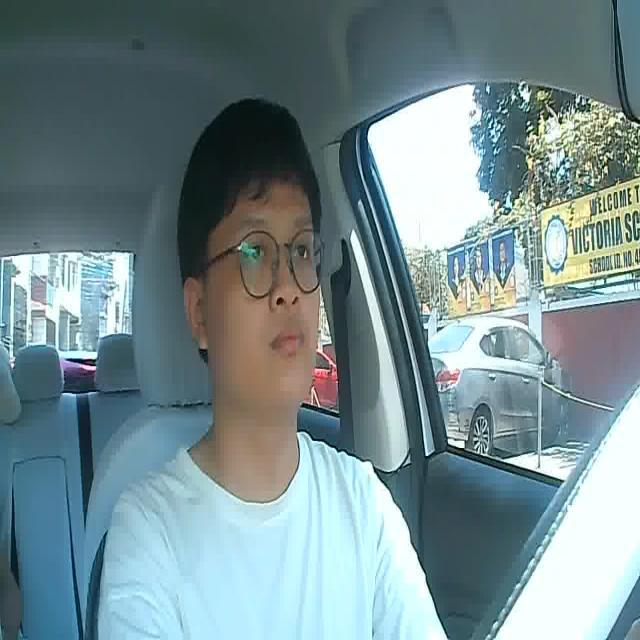Attentive: (178, 96, 324, 407)
Eye-Open: (246, 238, 272, 268), (290, 236, 315, 266)
Normal: (265, 322, 308, 360)
